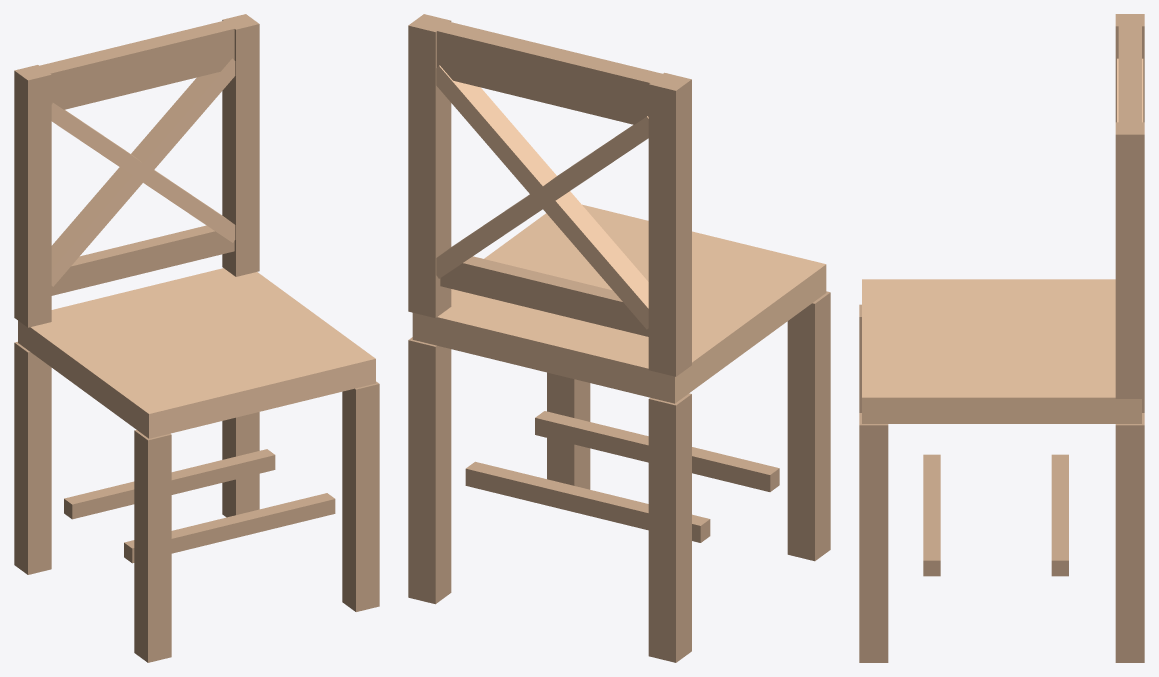
The model's file is chairCrossBack.glb.
The picture shows the model from 3 angles, left to right: view 1: azimuth 30°, elevation 25°; view 2: azimuth 150°, elevation 25°; view 3: azimuth 270°, elevation 25°; orthographic projection. The views are drawn at different scales.
Parts seen in each view (by area): view 1: chairCrossBack; view 2: chairCrossBack; view 3: chairCrossBack.
Boxes of the visible parts, x1,y1,x2,y2 form: chairCrossBack: (14, 14, 379, 662); chairCrossBack: (408, 14, 830, 662); chairCrossBack: (859, 14, 1144, 662).
Bounding box in the file's own units: 0.245 × 0.5 × 0.245.
